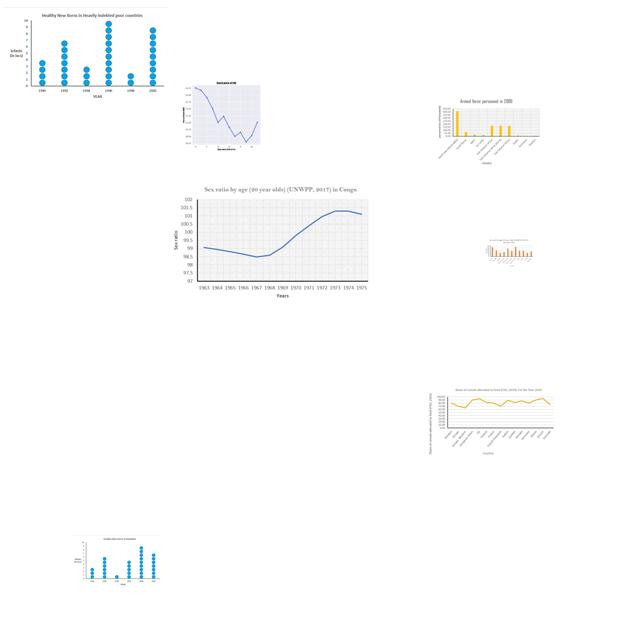Graph: (168, 183, 372, 302), (4, 7, 168, 103), (427, 385, 557, 457), (169, 76, 281, 153), (437, 97, 542, 168), (71, 535, 162, 588), (484, 238, 534, 267)
